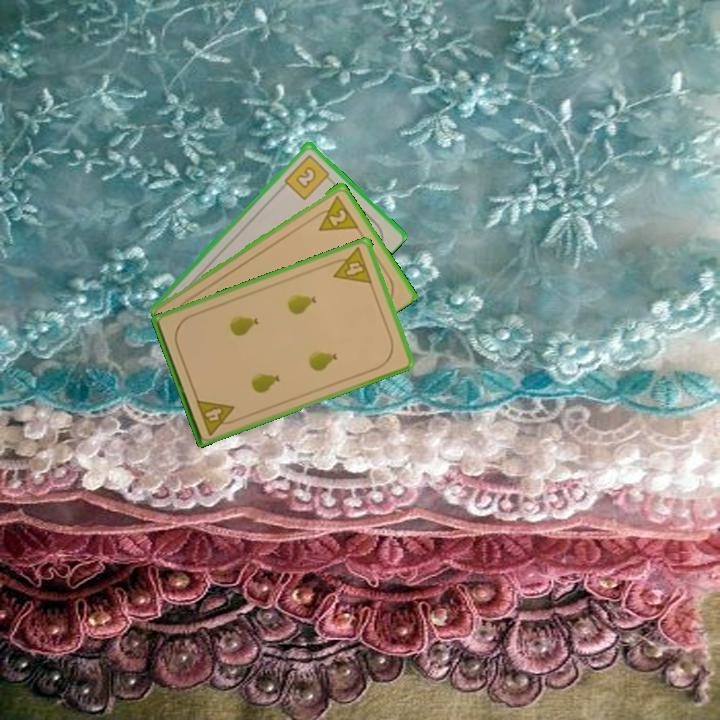2b: (281, 151, 334, 202)
2p: (309, 190, 361, 234)
4p: (326, 244, 375, 287), (192, 395, 241, 438)
